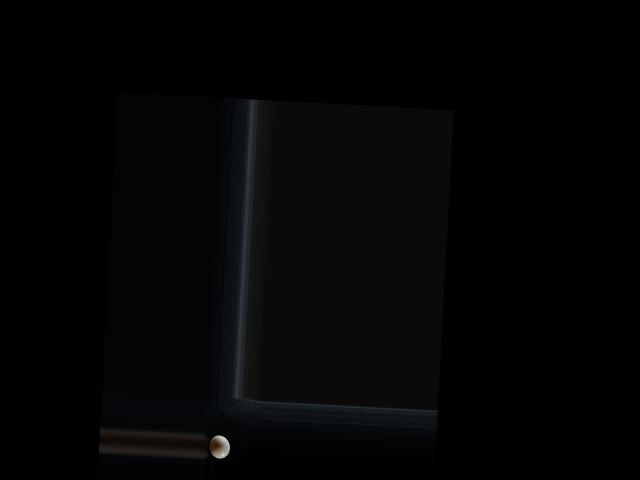egg: (208, 434, 231, 458)
